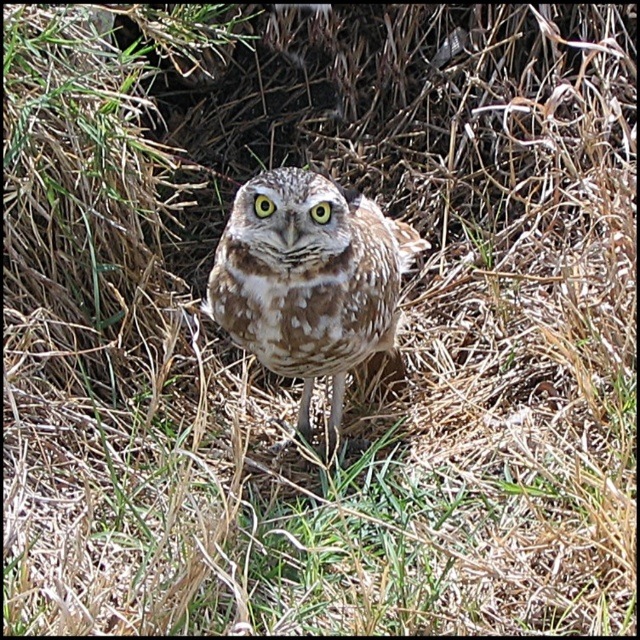Owl: (205, 159, 431, 465)
